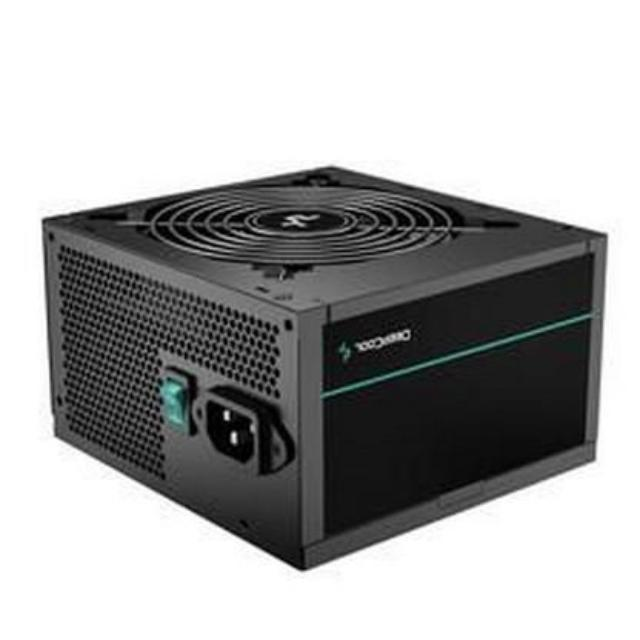PSU: (27, 162, 610, 582)
